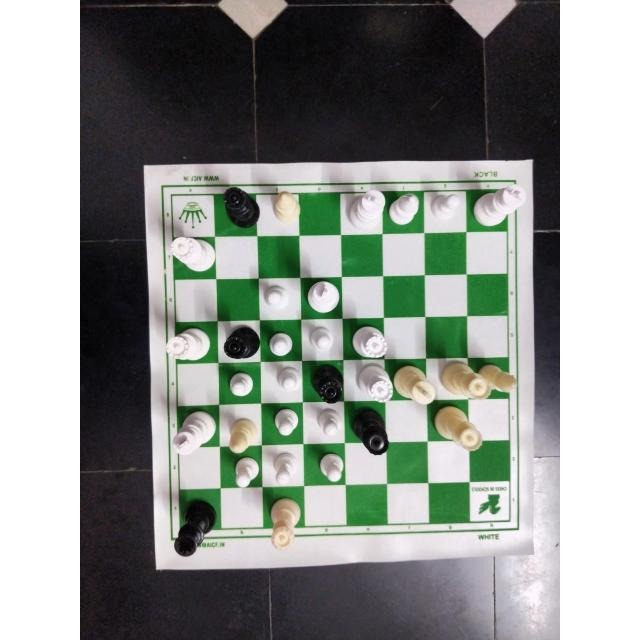black-king: (173, 497, 217, 559)
black-queen: (348, 408, 392, 456), (220, 185, 259, 227), (222, 325, 260, 360), (311, 366, 345, 402)
white-bishop: (482, 363, 518, 394), (226, 417, 257, 453), (388, 192, 420, 225), (273, 189, 301, 224)
white-king: (471, 183, 526, 227), (172, 410, 216, 456), (394, 365, 436, 405), (347, 188, 386, 231), (304, 280, 339, 313)
white-pawn: (313, 407, 343, 438), (314, 452, 343, 484), (262, 282, 292, 311), (430, 192, 461, 220), (306, 325, 337, 353), (271, 452, 298, 484), (274, 365, 302, 395), (230, 456, 258, 486), (270, 409, 299, 437), (225, 372, 254, 398), (268, 331, 294, 357)
white-queen: (433, 404, 485, 452), (439, 359, 492, 399), (269, 497, 303, 553), (169, 236, 217, 272), (165, 326, 213, 362), (355, 364, 393, 404), (351, 324, 389, 359)
